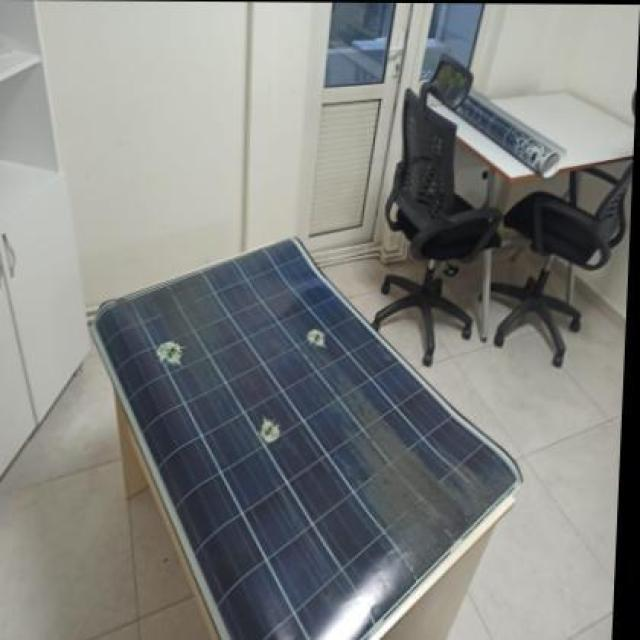soiled: (94, 234, 522, 640)
